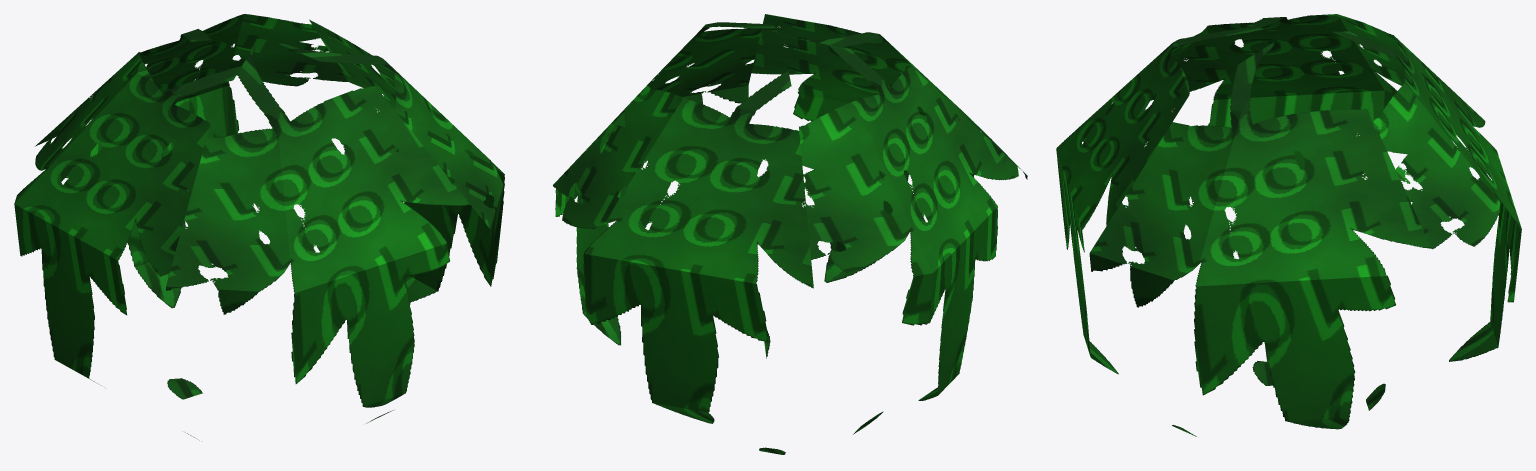
The model's file is BlockChain_CodeBush_Art.glb.
3 renders of one model, left to right at view 1: azimuth 30°, elevation 25°; view 2: azimuth 150°, elevation 25°; view 3: azimuth 270°, elevation 25°, orthographic.
Parts seen in each view (by area): view 1: BlockChain_CodeBush_Art; view 2: BlockChain_CodeBush_Art; view 3: BlockChain_CodeBush_Art.
Part boxes in pixels (x1,y1,x2,y2): BlockChain_CodeBush_Art: (14,14,504,440); BlockChain_CodeBush_Art: (553,14,1027,454); BlockChain_CodeBush_Art: (1056,14,1521,436).
Bounding box in the file's own units: 3.2 × 2.93 × 3.2.
Materials: 1 (1 with a texture image).
